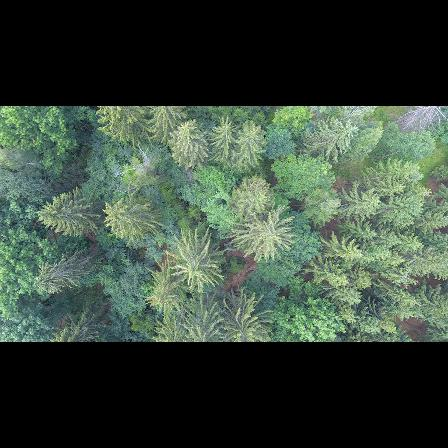Dead: (391, 106, 448, 136)
